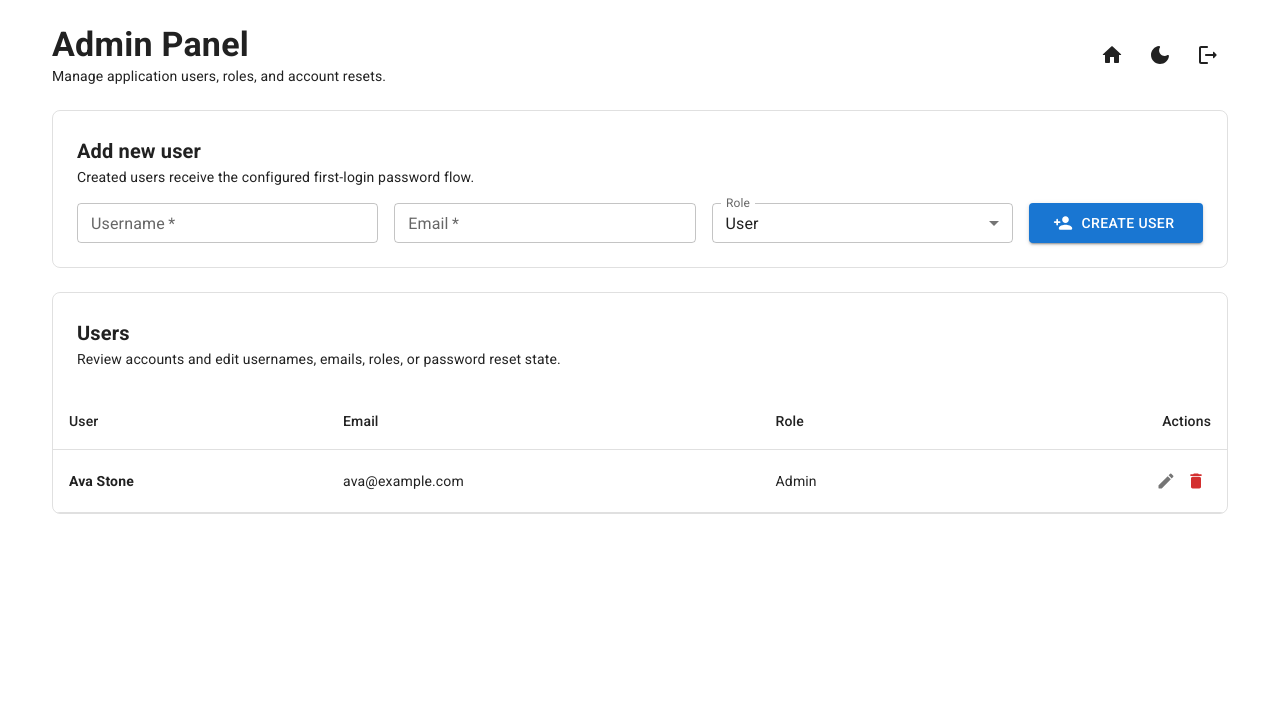
Test: <AdminPanelPage /> › shows the API validation message when creating a user fails
Expected: the dropdown "User" is shown, [726, 214, 759, 232]
Type "Ava Stone" into the field labelled "Username *" at (228, 223), box [77, 203, 378, 243]
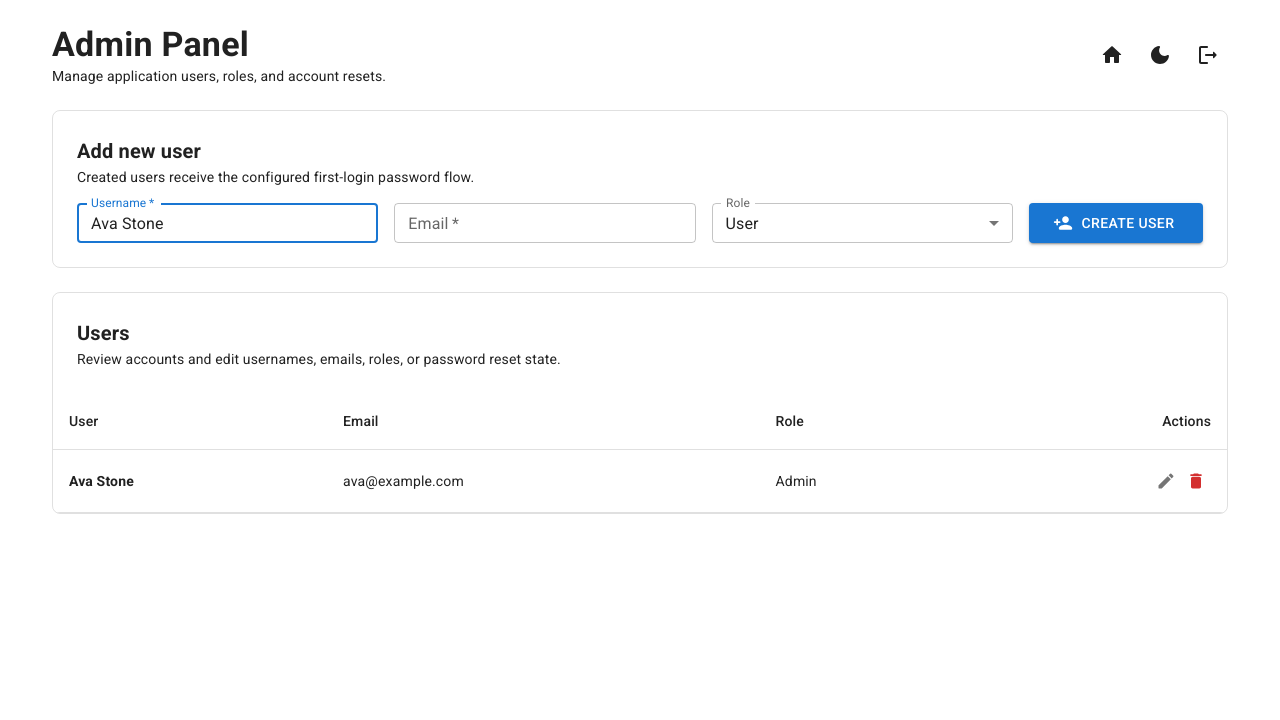
Type "ava@example.com" into the field labelled "Email *" at (545, 223), box [394, 203, 696, 243]
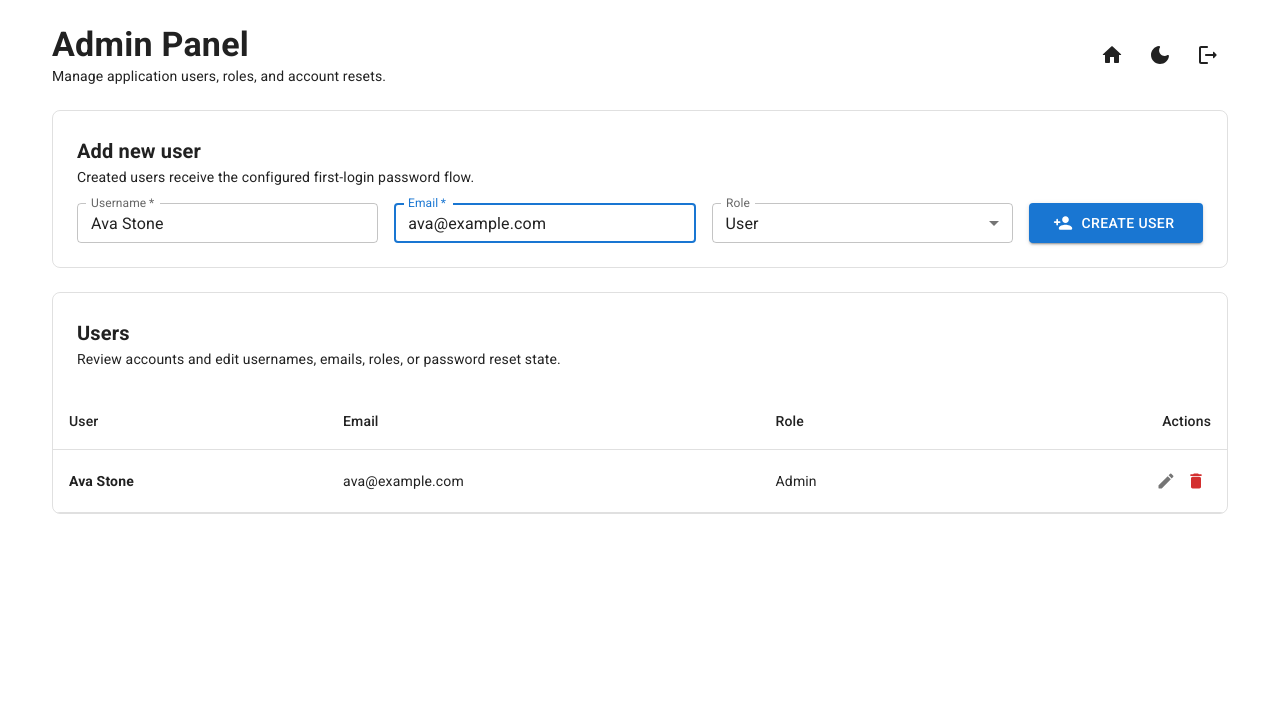
Click the button "Create user" at (1116, 223), box [1029, 203, 1203, 243]
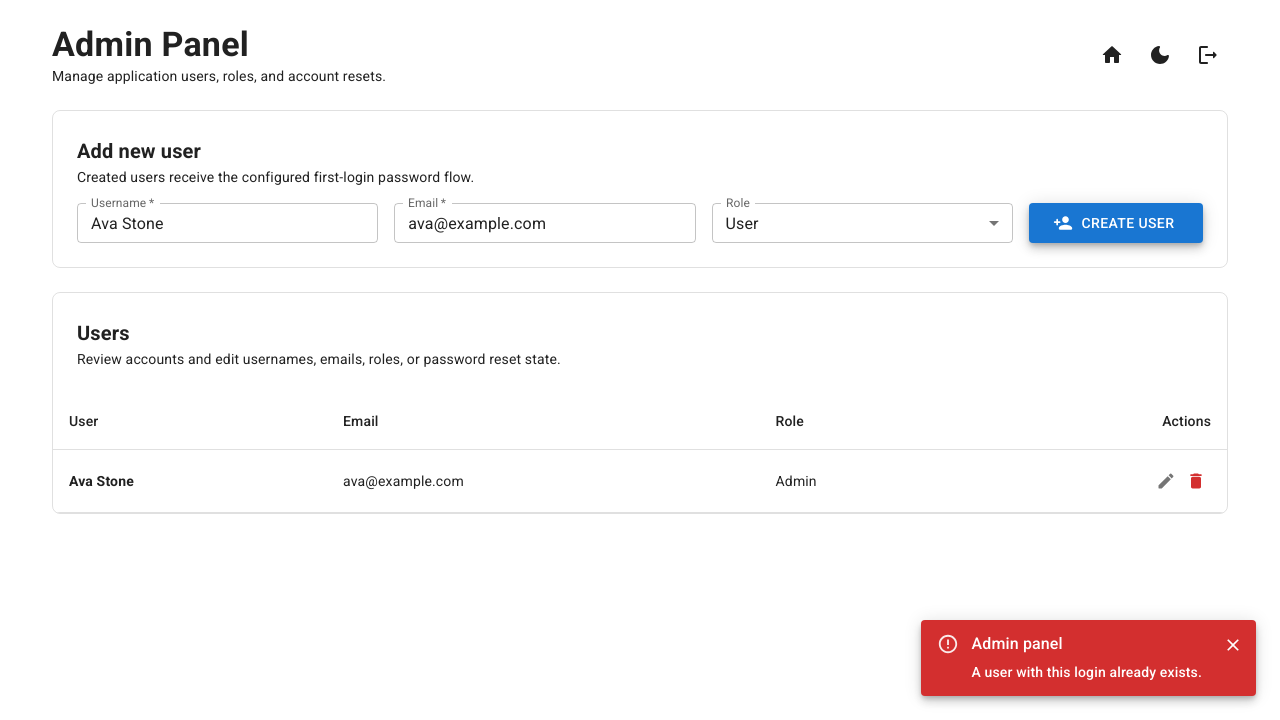
Now the text "A user with this login already exists." is shown, box [972, 664, 1202, 680]
